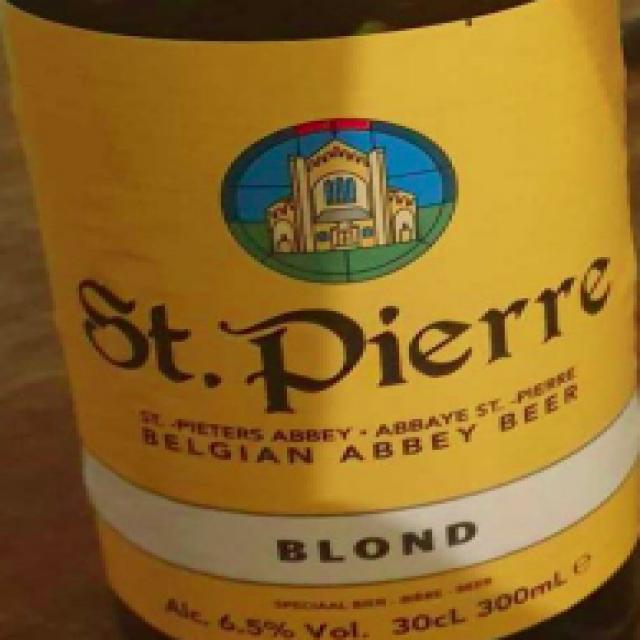St.Pierre Blond: (0, 2, 640, 640)
